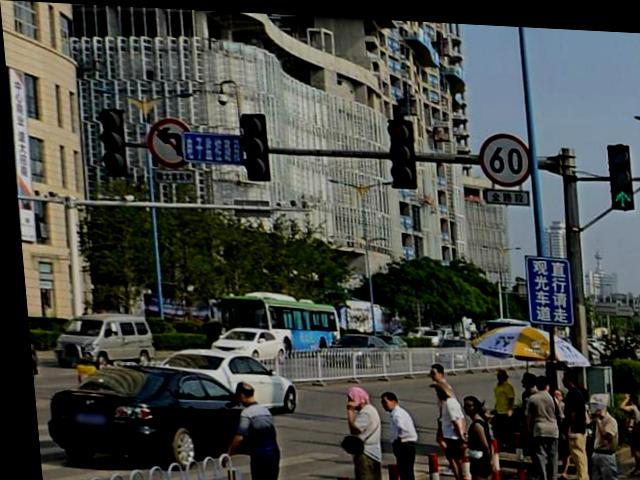limit60: (475, 128, 530, 180)
